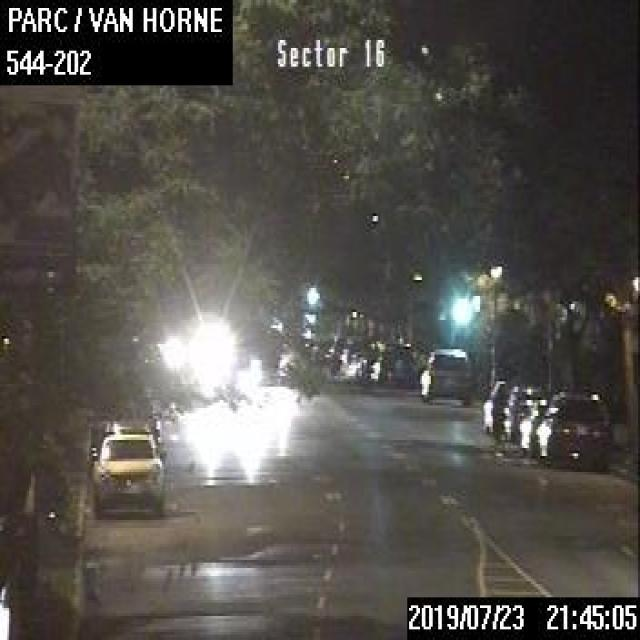vehicle: (90, 428, 162, 511), (538, 388, 610, 468), (88, 418, 166, 460), (418, 346, 471, 402), (504, 383, 544, 438), (368, 338, 416, 383), (480, 376, 516, 433), (519, 396, 553, 454), (326, 335, 368, 380)
